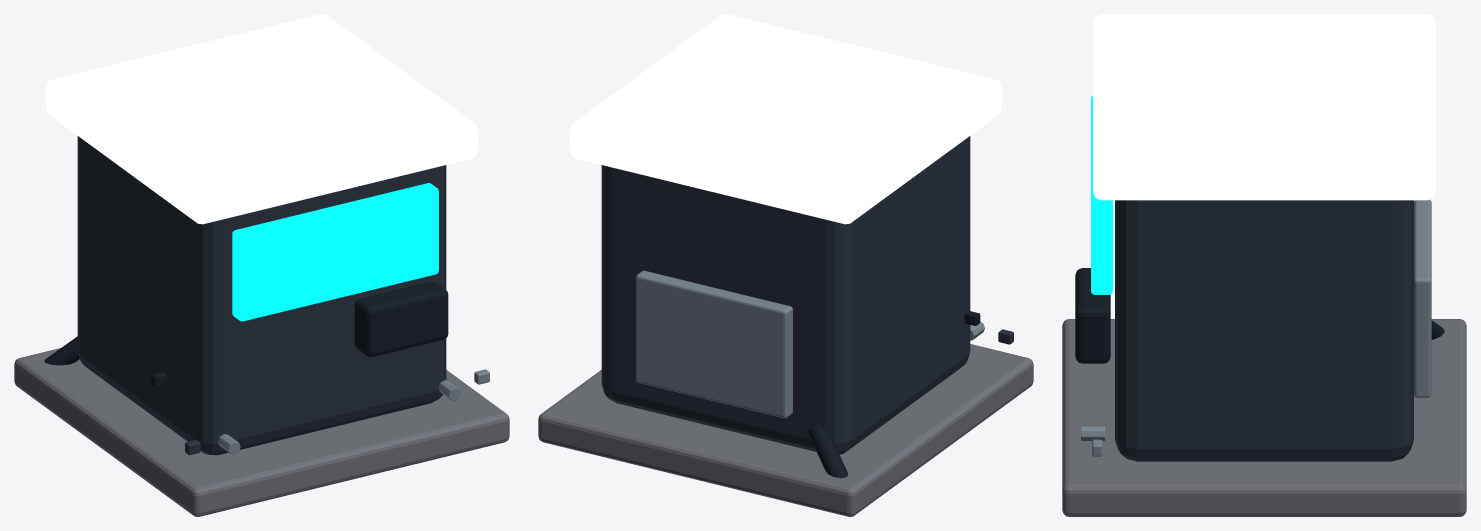
The model's file is equipment_treadmill_future_a_v01.glb.
3 views of the same model, side by side, from view 1: azimuth 30°, elevation 25°; view 2: azimuth 150°, elevation 25°; view 3: azimuth 270°, elevation 25° (orthographic). The views are drawn at different scales.
Visible parts, largest first — view 1: component__structural_enclosure_or_frame__enclosure, component__safety_and_weather_protection__weather_hood, component__anchored_base_or_mount__base_mount, component__primary_operating_surface__operating_surface, component__user_control_or_connection__control, component__power_conduit_drainage_or_network_path__service_p; view 2: component__structural_enclosure_or_frame__enclosure, component__safety_and_weather_protection__weather_hood, component__anchored_base_or_mount__base_mount, component__service_access__service_access, component__power_conduit_drainage_or_network_path__service_p; view 3: component__structural_enclosure_or_frame__enclosure, component__safety_and_weather_protection__weather_hood, component__anchored_base_or_mount__base_mount, component__service_access__service_access, component__user_control_or_connection__control, component__primary_operating_surface__operating_surface.
Part boxes in pixels (<box>): component__structural_enclosure_or_frame__enclosure: <box>77,136,446,455</box>; component__safety_and_weather_protection__weather_hood: <box>46,14,477,224</box>; component__anchored_base_or_mount__base_mount: <box>14,348,509,516</box>; component__primary_operating_surface__operating_surface: <box>232,183,438,321</box>; component__user_control_or_connection__control: <box>354,281,448,357</box>; component__power_conduit_drainage_or_network_path__service_p: <box>44,336,79,365</box>; component__structural_enclosure_or_frame__enclosure: <box>601,136,970,454</box>; component__safety_and_weather_protection__weather_hood: <box>570,14,1001,224</box>; component__anchored_base_or_mount__base_mount: <box>538,344,1033,516</box>; component__service_access__service_access: <box>636,270,792,418</box>; component__power_conduit_drainage_or_network_path__service_p: <box>808,424,848,478</box>; component__structural_enclosure_or_frame__enclosure: <box>1115,200,1413,461</box>; component__safety_and_weather_protection__weather_hood: <box>1093,14,1435,200</box>; component__anchored_base_or_mount__base_mount: <box>1062,319,1466,516</box>; component__service_access__service_access: <box>1414,199,1431,397</box>; component__user_control_or_connection__control: <box>1075,268,1110,363</box>; component__primary_operating_surface__operating_surface: <box>1091,95,1112,294</box>.
Size of the model in its own units: 1.38 by 1.31 by 1.38.
